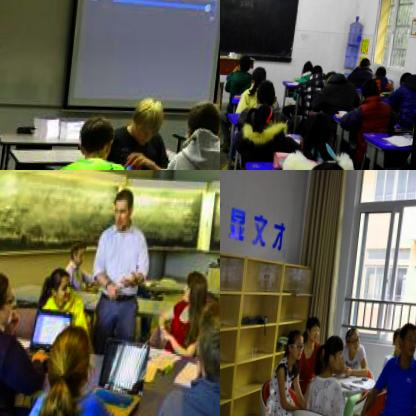head: (49, 322, 99, 393), (79, 108, 123, 162), (132, 91, 168, 146), (196, 299, 220, 379), (302, 110, 342, 151), (0, 266, 23, 330), (187, 96, 220, 139), (48, 262, 77, 303), (185, 265, 214, 306), (111, 187, 137, 228), (324, 330, 352, 368), (253, 99, 285, 130), (310, 151, 361, 170), (398, 315, 416, 355), (288, 328, 309, 360), (346, 321, 366, 351), (394, 321, 413, 352), (208, 93, 220, 140), (363, 69, 384, 94), (71, 236, 89, 265), (307, 314, 325, 343), (261, 77, 281, 102), (252, 61, 272, 85), (327, 66, 343, 89), (400, 64, 416, 84), (361, 51, 377, 70), (314, 60, 328, 79), (242, 51, 255, 70), (305, 55, 316, 70), (379, 61, 389, 75)
